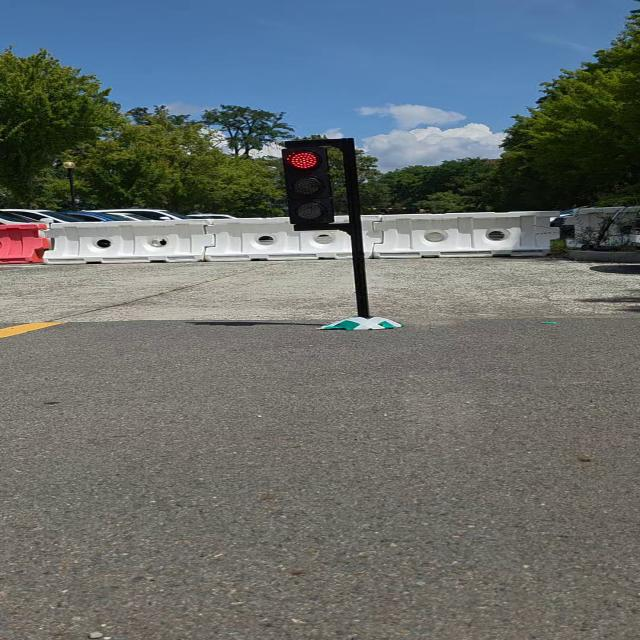red: (277, 146, 342, 232)
